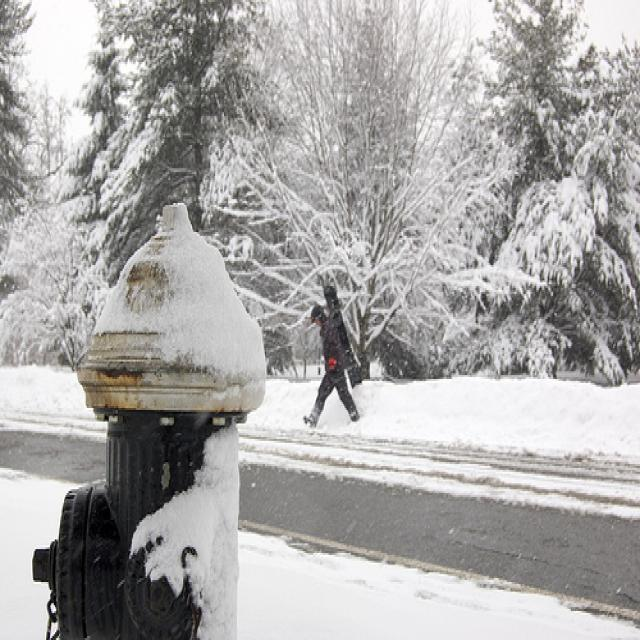fire_hydrant: (35, 207, 268, 640)
